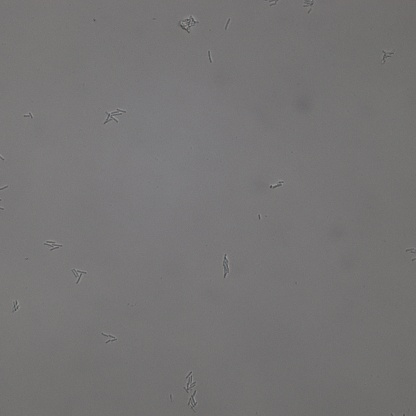R(colony): (177, 16, 197, 35), (103, 107, 125, 123), (184, 371, 196, 392), (221, 253, 231, 278), (72, 269, 87, 283), (187, 393, 198, 412), (45, 241, 62, 252), (102, 333, 118, 343), (381, 50, 393, 63), (407, 247, 416, 262), (269, 181, 282, 190), (304, 1, 313, 14), (12, 301, 20, 311), (23, 113, 33, 120)
